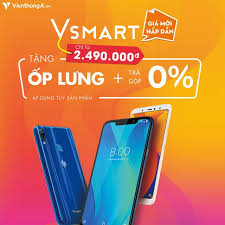vsmart: (82, 116, 154, 225), (31, 122, 81, 225)
